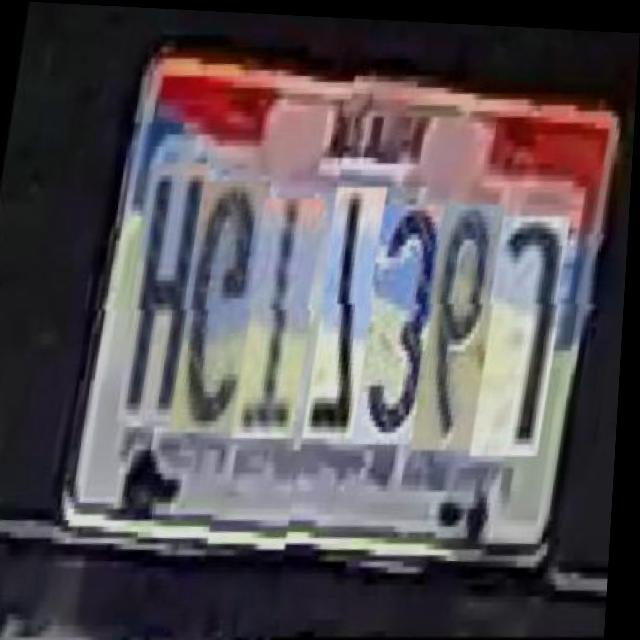3: (352, 200, 449, 447)
6: (411, 201, 502, 454)
7: (304, 184, 384, 441)
g: (169, 171, 269, 431)
h: (117, 154, 206, 419)
j: (470, 213, 568, 460)
t: (233, 189, 322, 436)
